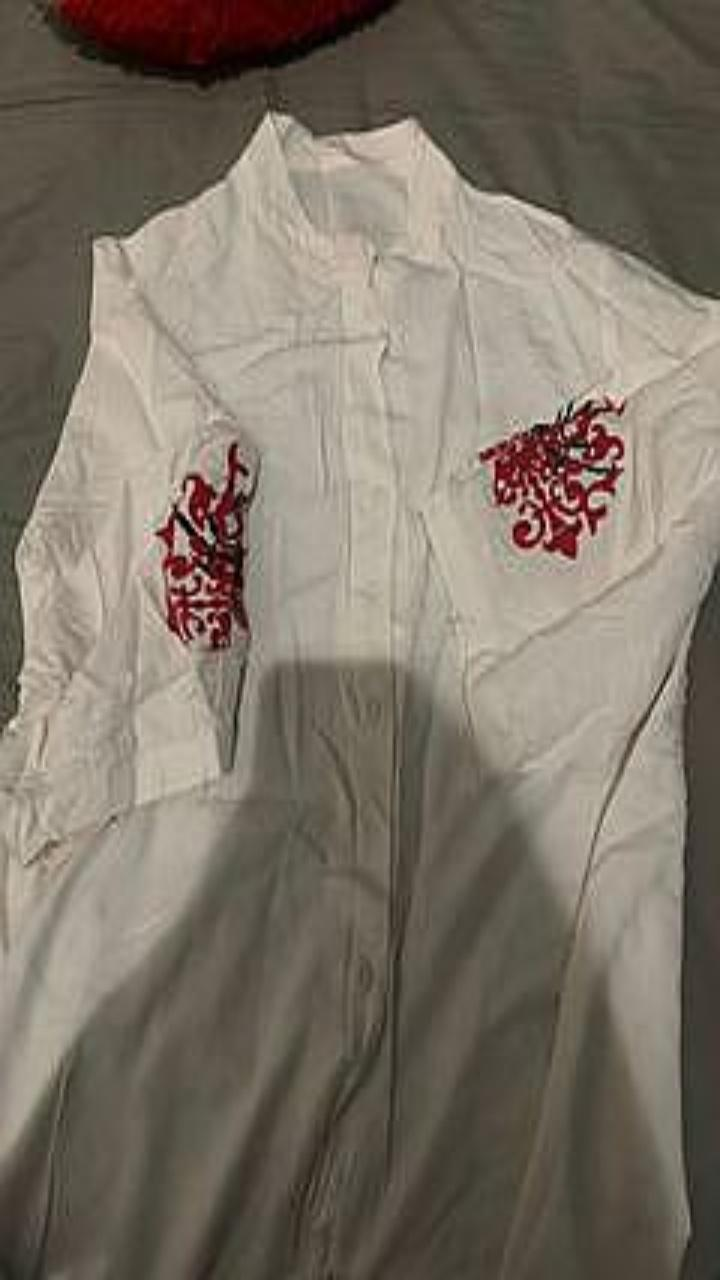T-Shirt: (0, 112, 719, 1279)
